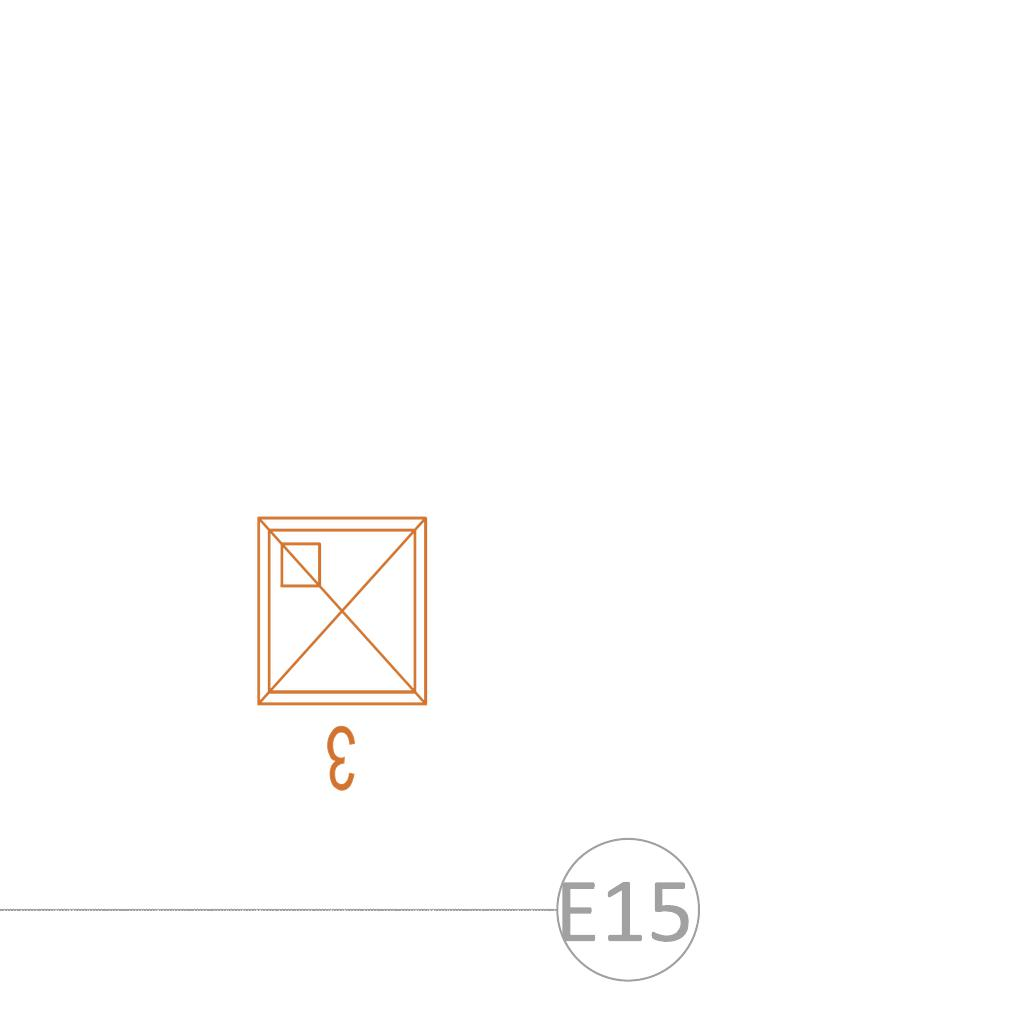Einbaudownlights_LED_Konferenzraeume: (242, 502, 450, 802)
